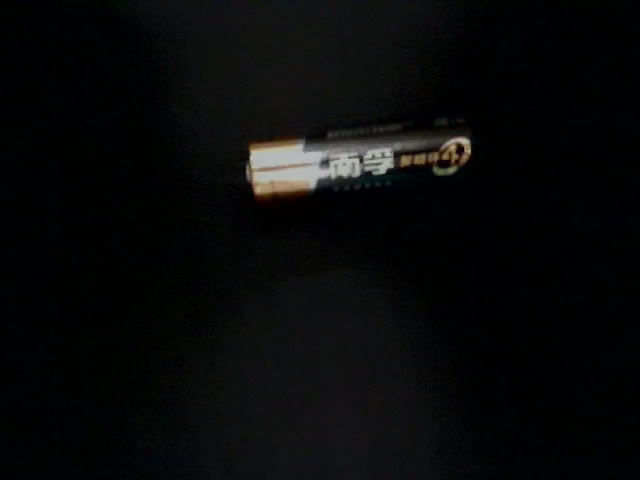QTLJ: (55, 365, 199, 480)
